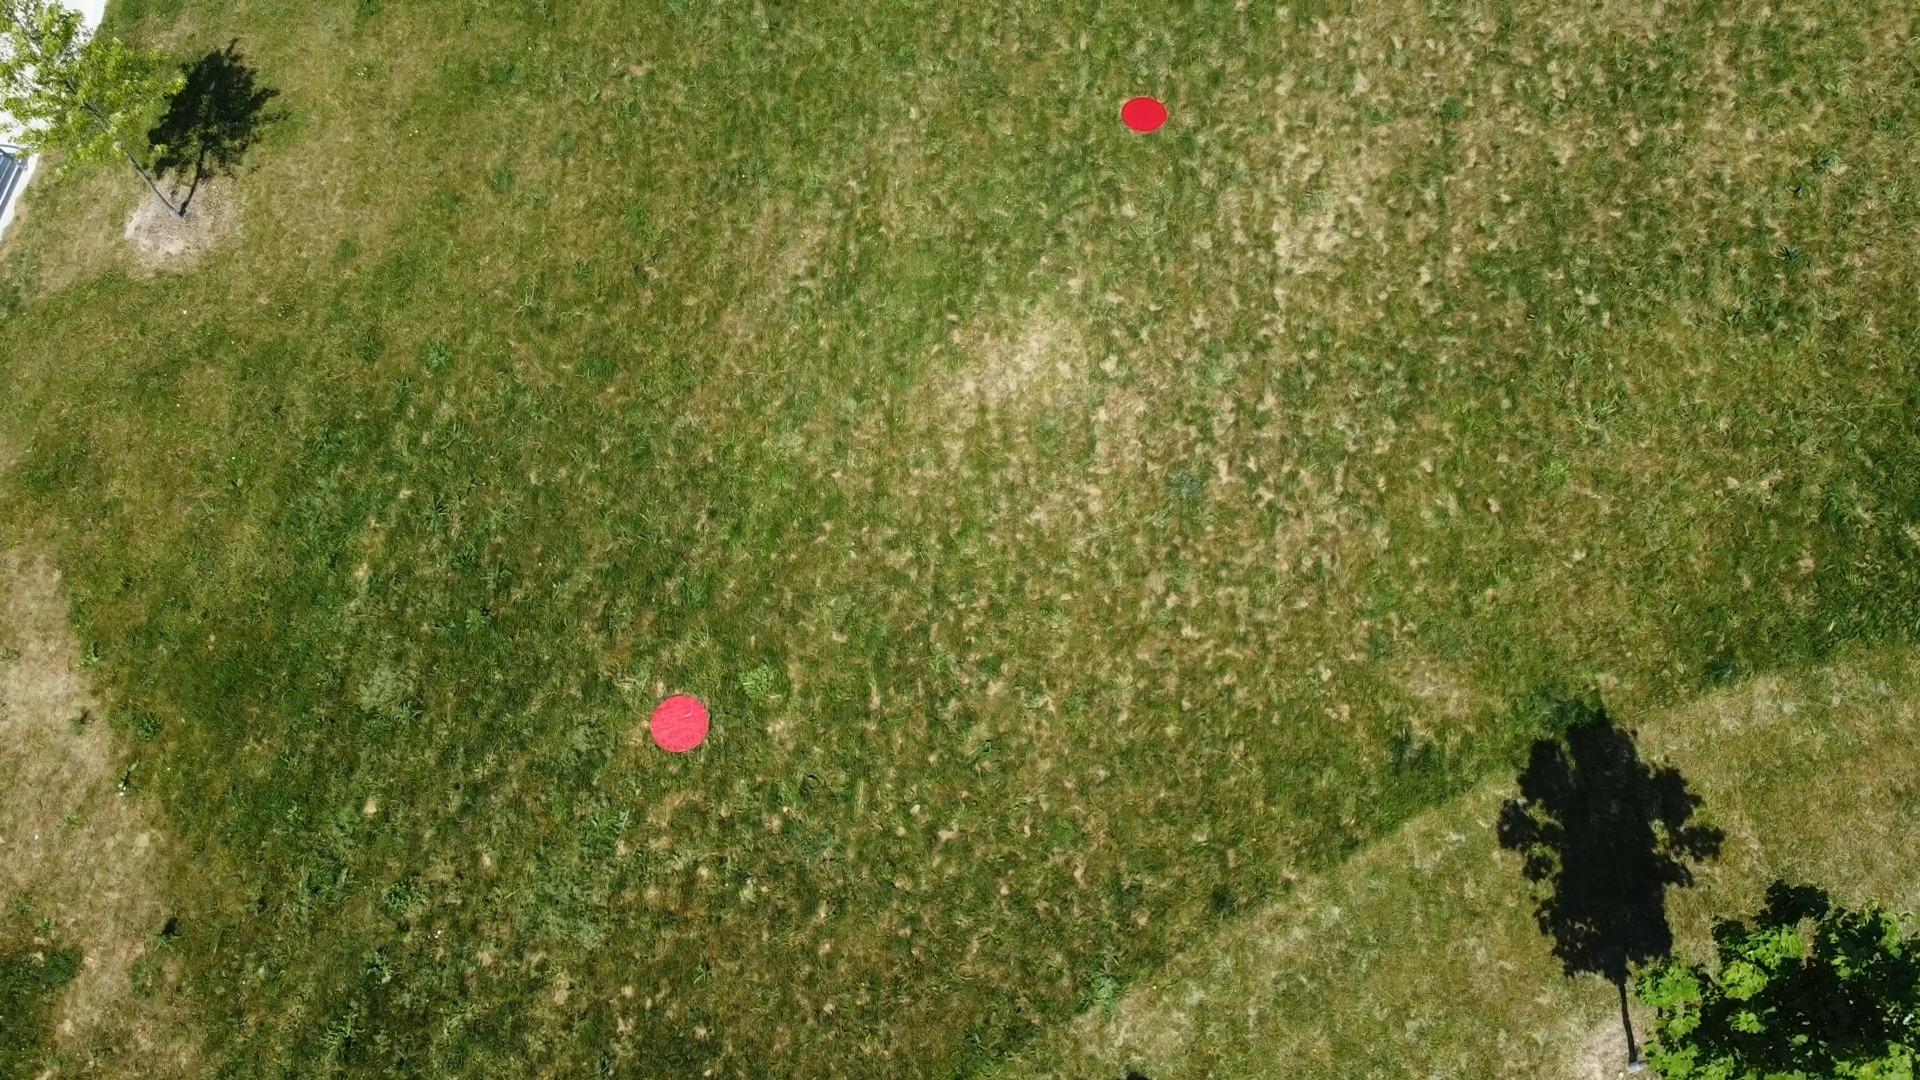Red: (647, 692, 713, 754), (1120, 94, 1171, 135)
